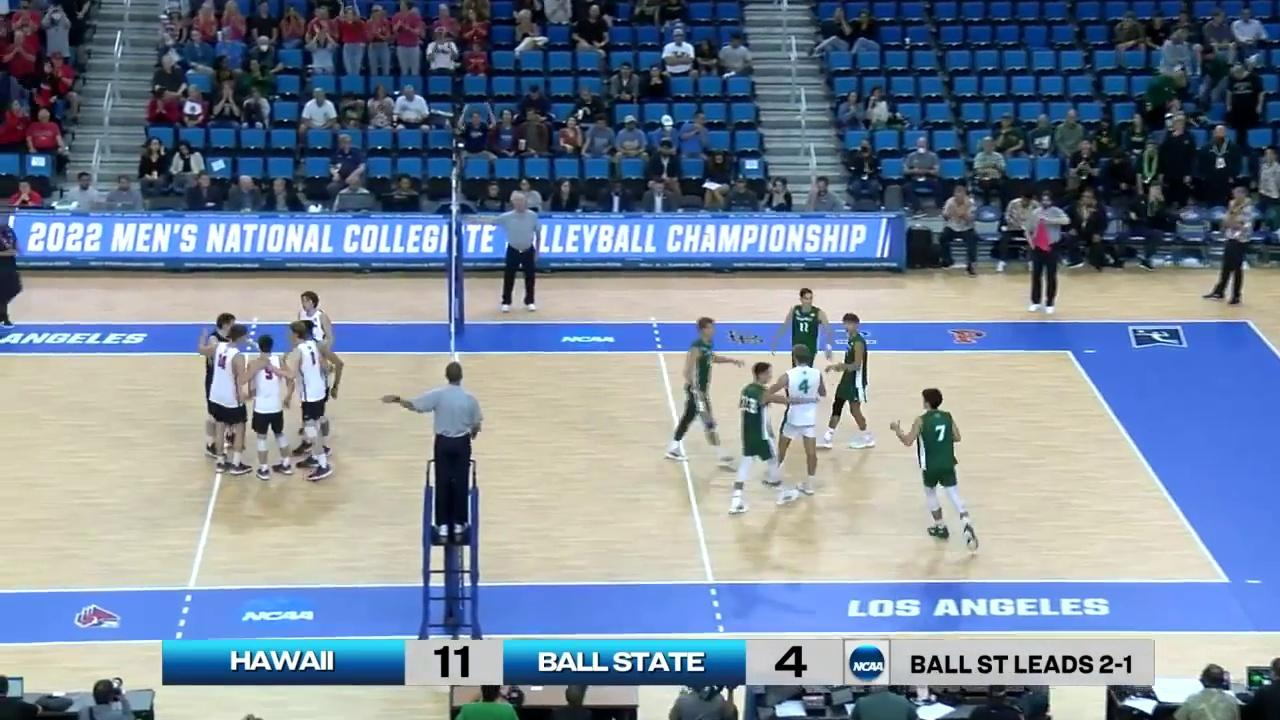player: (902, 387, 977, 552), (665, 318, 731, 471), (727, 364, 792, 515), (766, 347, 827, 498), (287, 321, 336, 482), (820, 313, 876, 451), (249, 335, 293, 480), (779, 289, 829, 415), (213, 324, 254, 476), (202, 310, 238, 458), (293, 291, 334, 415)
refree: (417, 361, 481, 538), (490, 191, 541, 314), (1025, 193, 1066, 316)
